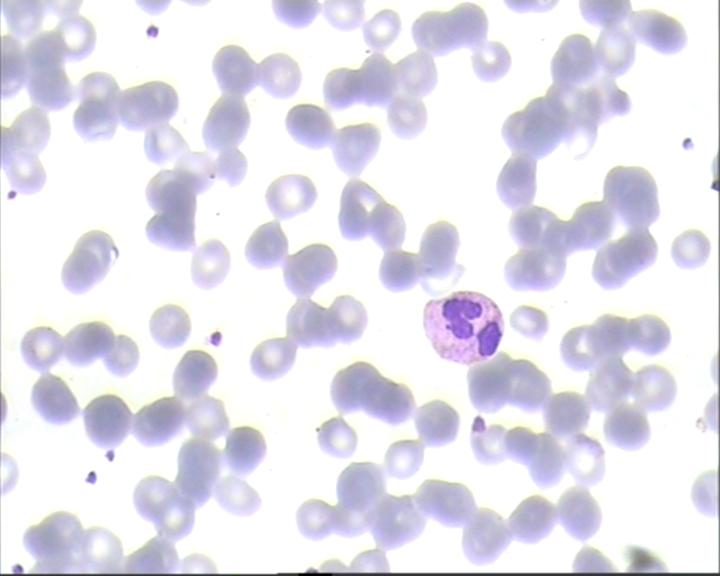neut: (420, 289, 507, 368)
